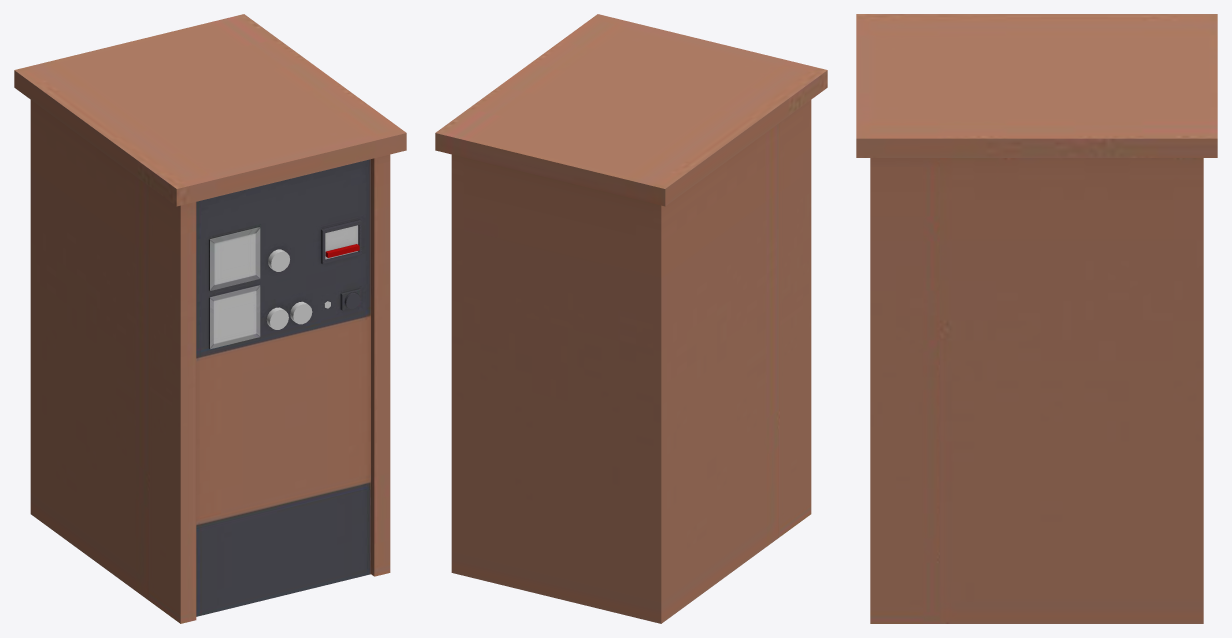
The picture shows the model from 3 angles, left to right: view 1: azimuth 30°, elevation 25°; view 2: azimuth 150°, elevation 25°; view 3: azimuth 270°, elevation 25°; orthographic projection. The views are drawn at different scales.
Parts seen in each view (by area): view 1: zx5_400_0; view 2: zx5_400_0; view 3: zx5_400_0.
Part boxes in pixels (x1,y1,x2,y2): zx5_400_0: [14, 14, 406, 623]; zx5_400_0: [435, 14, 827, 623]; zx5_400_0: [856, 14, 1217, 623].
Size of the model in its own units: 0.49 by 0.9 by 0.6.
Materials: 1 (1 with a texture image).
